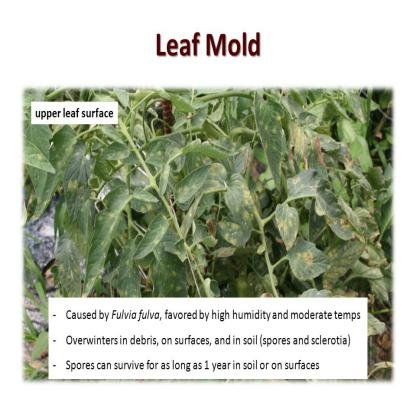tomato mold leaf: (29, 126, 84, 220), (80, 186, 127, 296), (297, 172, 362, 240), (249, 93, 283, 194), (175, 158, 234, 205), (61, 150, 91, 236), (321, 230, 367, 286), (288, 236, 334, 283), (132, 213, 170, 263), (224, 172, 254, 226), (272, 202, 300, 255), (116, 238, 140, 296), (145, 137, 174, 166), (130, 187, 161, 209), (102, 143, 133, 162), (159, 163, 171, 198)
